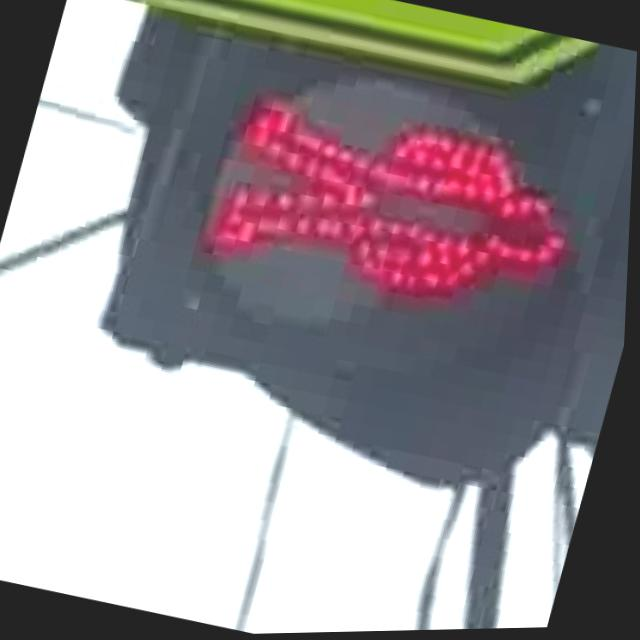red_light: (176, 64, 628, 375)
